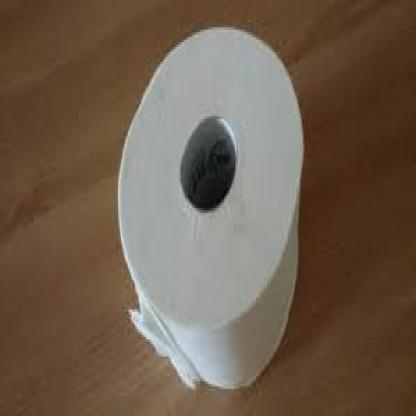tissue: (113, 26, 317, 401)
